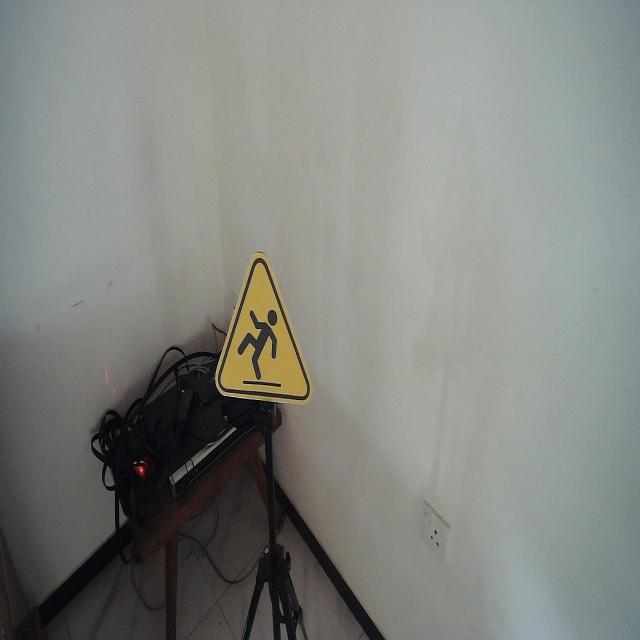slippery_sign: (212, 247, 316, 410)
